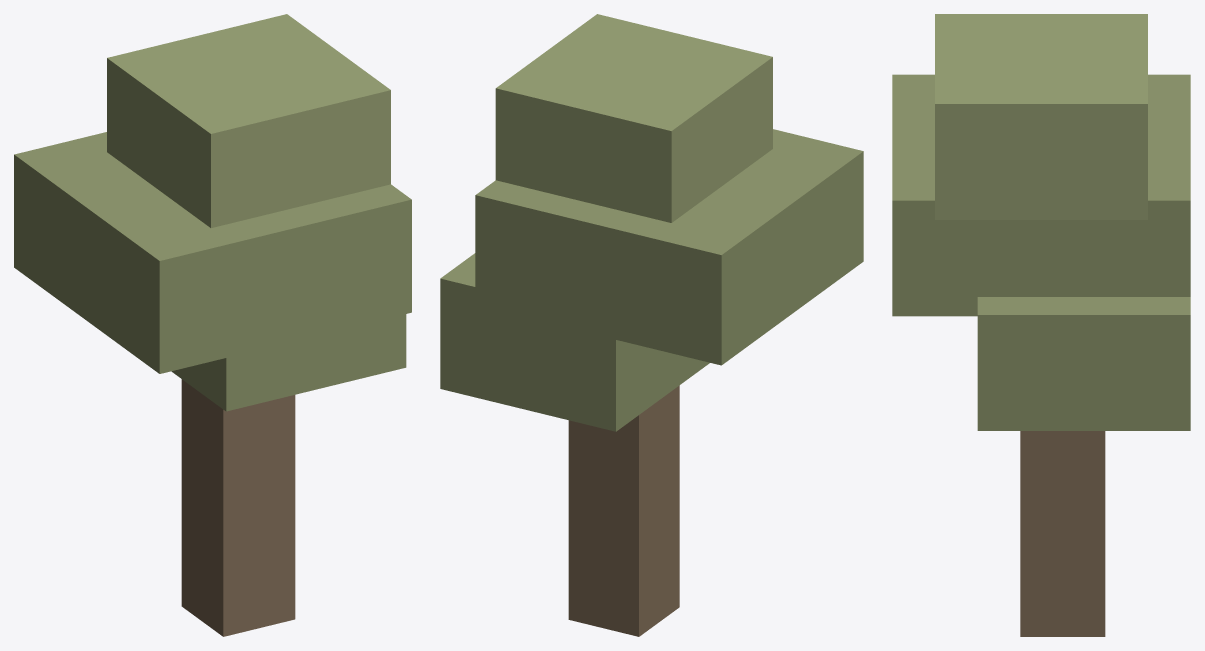
The model's file is tamarisco_04.glb.
The picture shows the model from 3 angles, left to right: view 1: azimuth 30°, elevation 25°; view 2: azimuth 150°, elevation 25°; view 3: azimuth 270°, elevation 25°; orthographic projection. The views are drawn at different scales.
Parts seen in each view (by area): view 1: tamarisco_04; view 2: tamarisco_04; view 3: tamarisco_04.
Boxes of the visible parts, x1,y1,x2,y2 form: tamarisco_04: [14, 14, 411, 636]; tamarisco_04: [440, 14, 863, 636]; tamarisco_04: [892, 14, 1190, 636].
Size of the model in its own units: 1.6 by 2.9 by 1.4.
